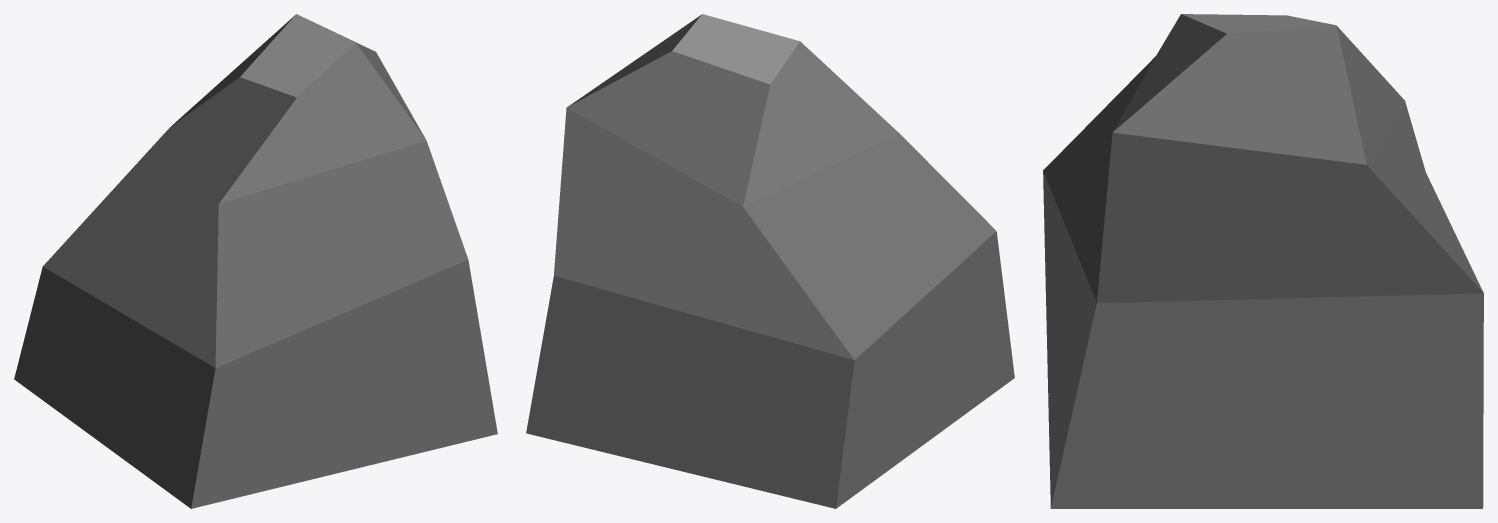
File: rock1.fbx
The picture shows the model from 3 angles, left to right: view 1: azimuth 30°, elevation 25°; view 2: azimuth 150°, elevation 25°; view 3: azimuth 270°, elevation 25°; orthographic projection. The views are drawn at different scales.
Visible parts, largest first — view 1: Rock.001; view 2: Rock.001; view 3: Rock.001.
Part boxes in pixels (bbox=[...]): Rock.001: bbox=[14, 14, 497, 508]; Rock.001: bbox=[526, 14, 1014, 508]; Rock.001: bbox=[1043, 14, 1483, 508].
Size of the model in its own units: 2.04 by 2.05 by 2.21.
